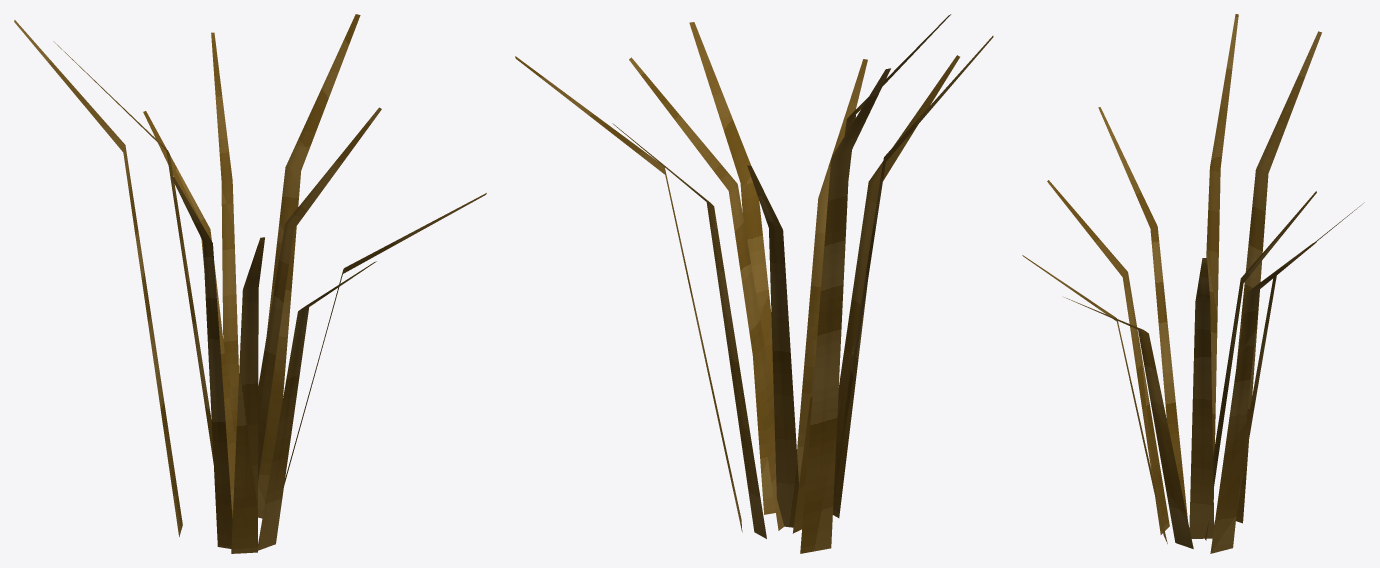
File: grass_dry3-lod1.glb
3 views of the same model, side by side, from view 1: azimuth 30°, elevation 25°; view 2: azimuth 150°, elevation 25°; view 3: azimuth 270°, elevation 25° (orthographic). The views are drawn at different scales.
Parts seen in each view (by area): view 1: TZ_ground_plant_Batch_00_LOD1; view 2: TZ_ground_plant_Batch_00_LOD1; view 3: TZ_ground_plant_Batch_00_LOD1.
Part boxes in pixels (x1,y1,x2,y2): TZ_ground_plant_Batch_00_LOD1: [14, 14, 486, 553]; TZ_ground_plant_Batch_00_LOD1: [515, 14, 993, 553]; TZ_ground_plant_Batch_00_LOD1: [1022, 14, 1364, 553].
Size of the model in its own units: 0.3965 by 0.56 by 0.385.
Materials: 1 (1 with a texture image).
